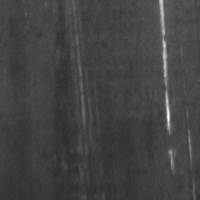scratches: (158, 1, 177, 171), (70, 30, 91, 130)
